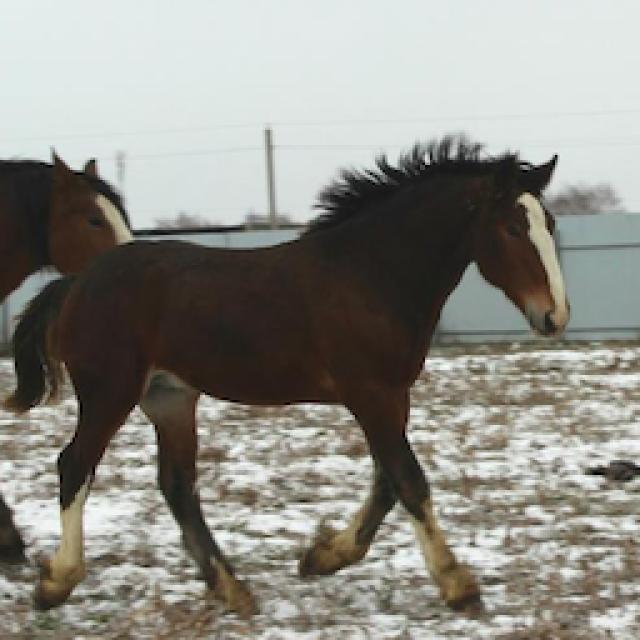Horse: (0, 135, 575, 623)
